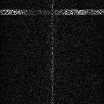wifi: (1, 10, 104, 14)
